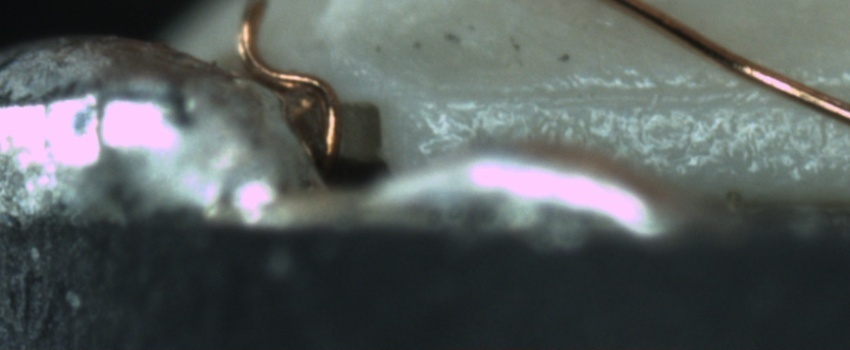DL: (428, 63, 849, 128)
